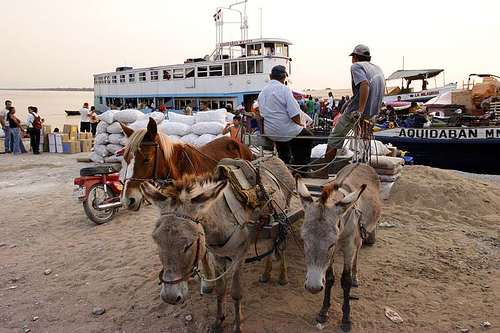horse: (118, 115, 257, 216)
